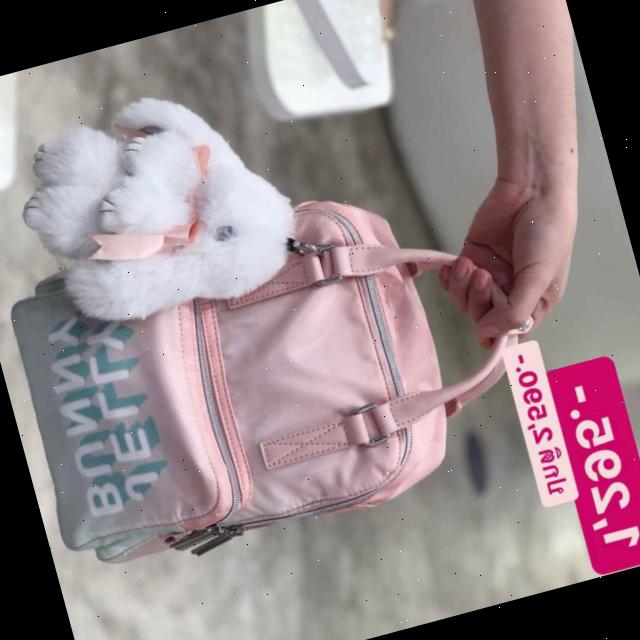handbag: (0, 155, 502, 585)
